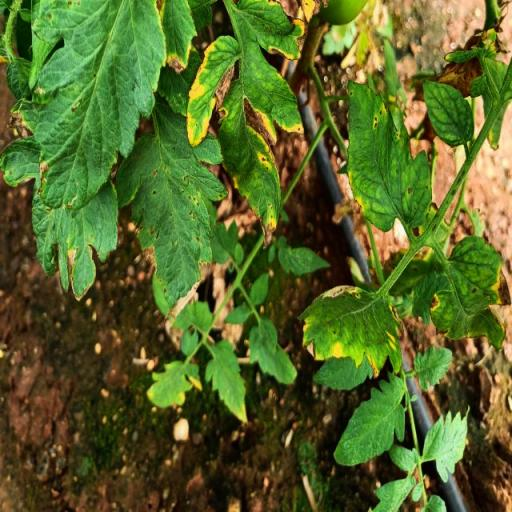disease_tomato: (184, 0, 306, 252), (124, 138, 228, 332), (344, 74, 436, 234), (296, 279, 408, 383), (426, 234, 512, 354)
